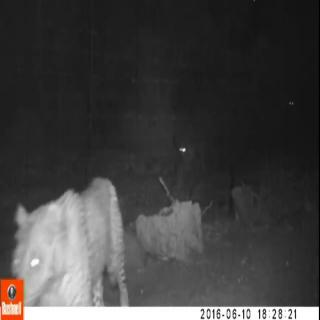Leopard: (2, 168, 142, 290)
